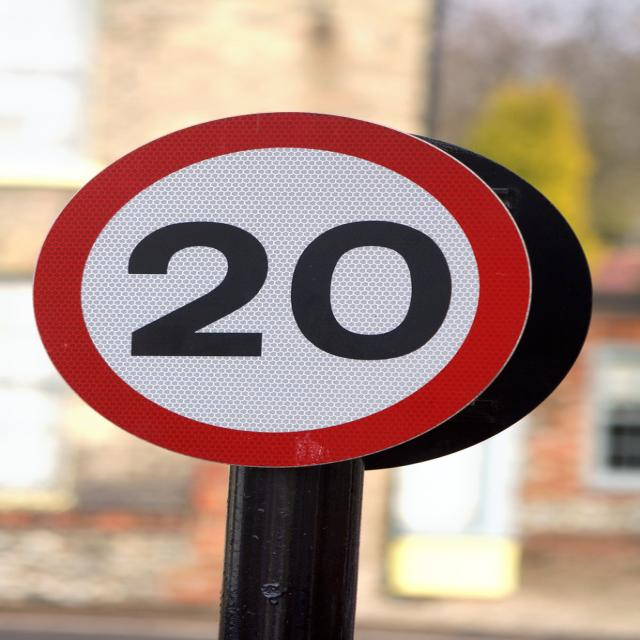speed limit 20: (25, 113, 538, 470)
